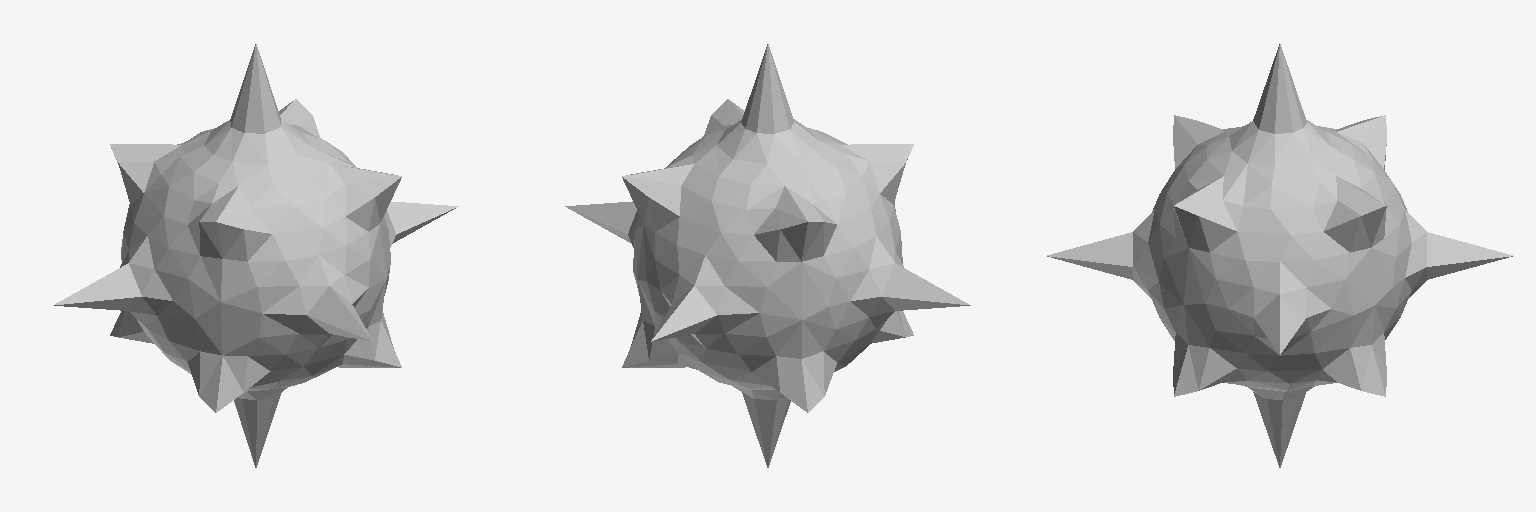
File: virus3.obj
The picture shows the model from 3 angles: view 1: azimuth 30°, elevation 25°; view 2: azimuth 150°, elevation 25°; view 3: azimuth 270°, elevation 25°; orthographic projection.
Visible parts, largest first — view 1: Sphere; view 2: Sphere; view 3: Sphere.
Boxes of the visible parts, x1=… form: Sphere: x1=53, y1=44, x2=458, y2=467; Sphere: x1=565, y1=44, x2=970, y2=467; Sphere: x1=1047, y1=44, x2=1512, y2=467.
Size of the model in its own units: 3.47 by 3.48 by 3.47.